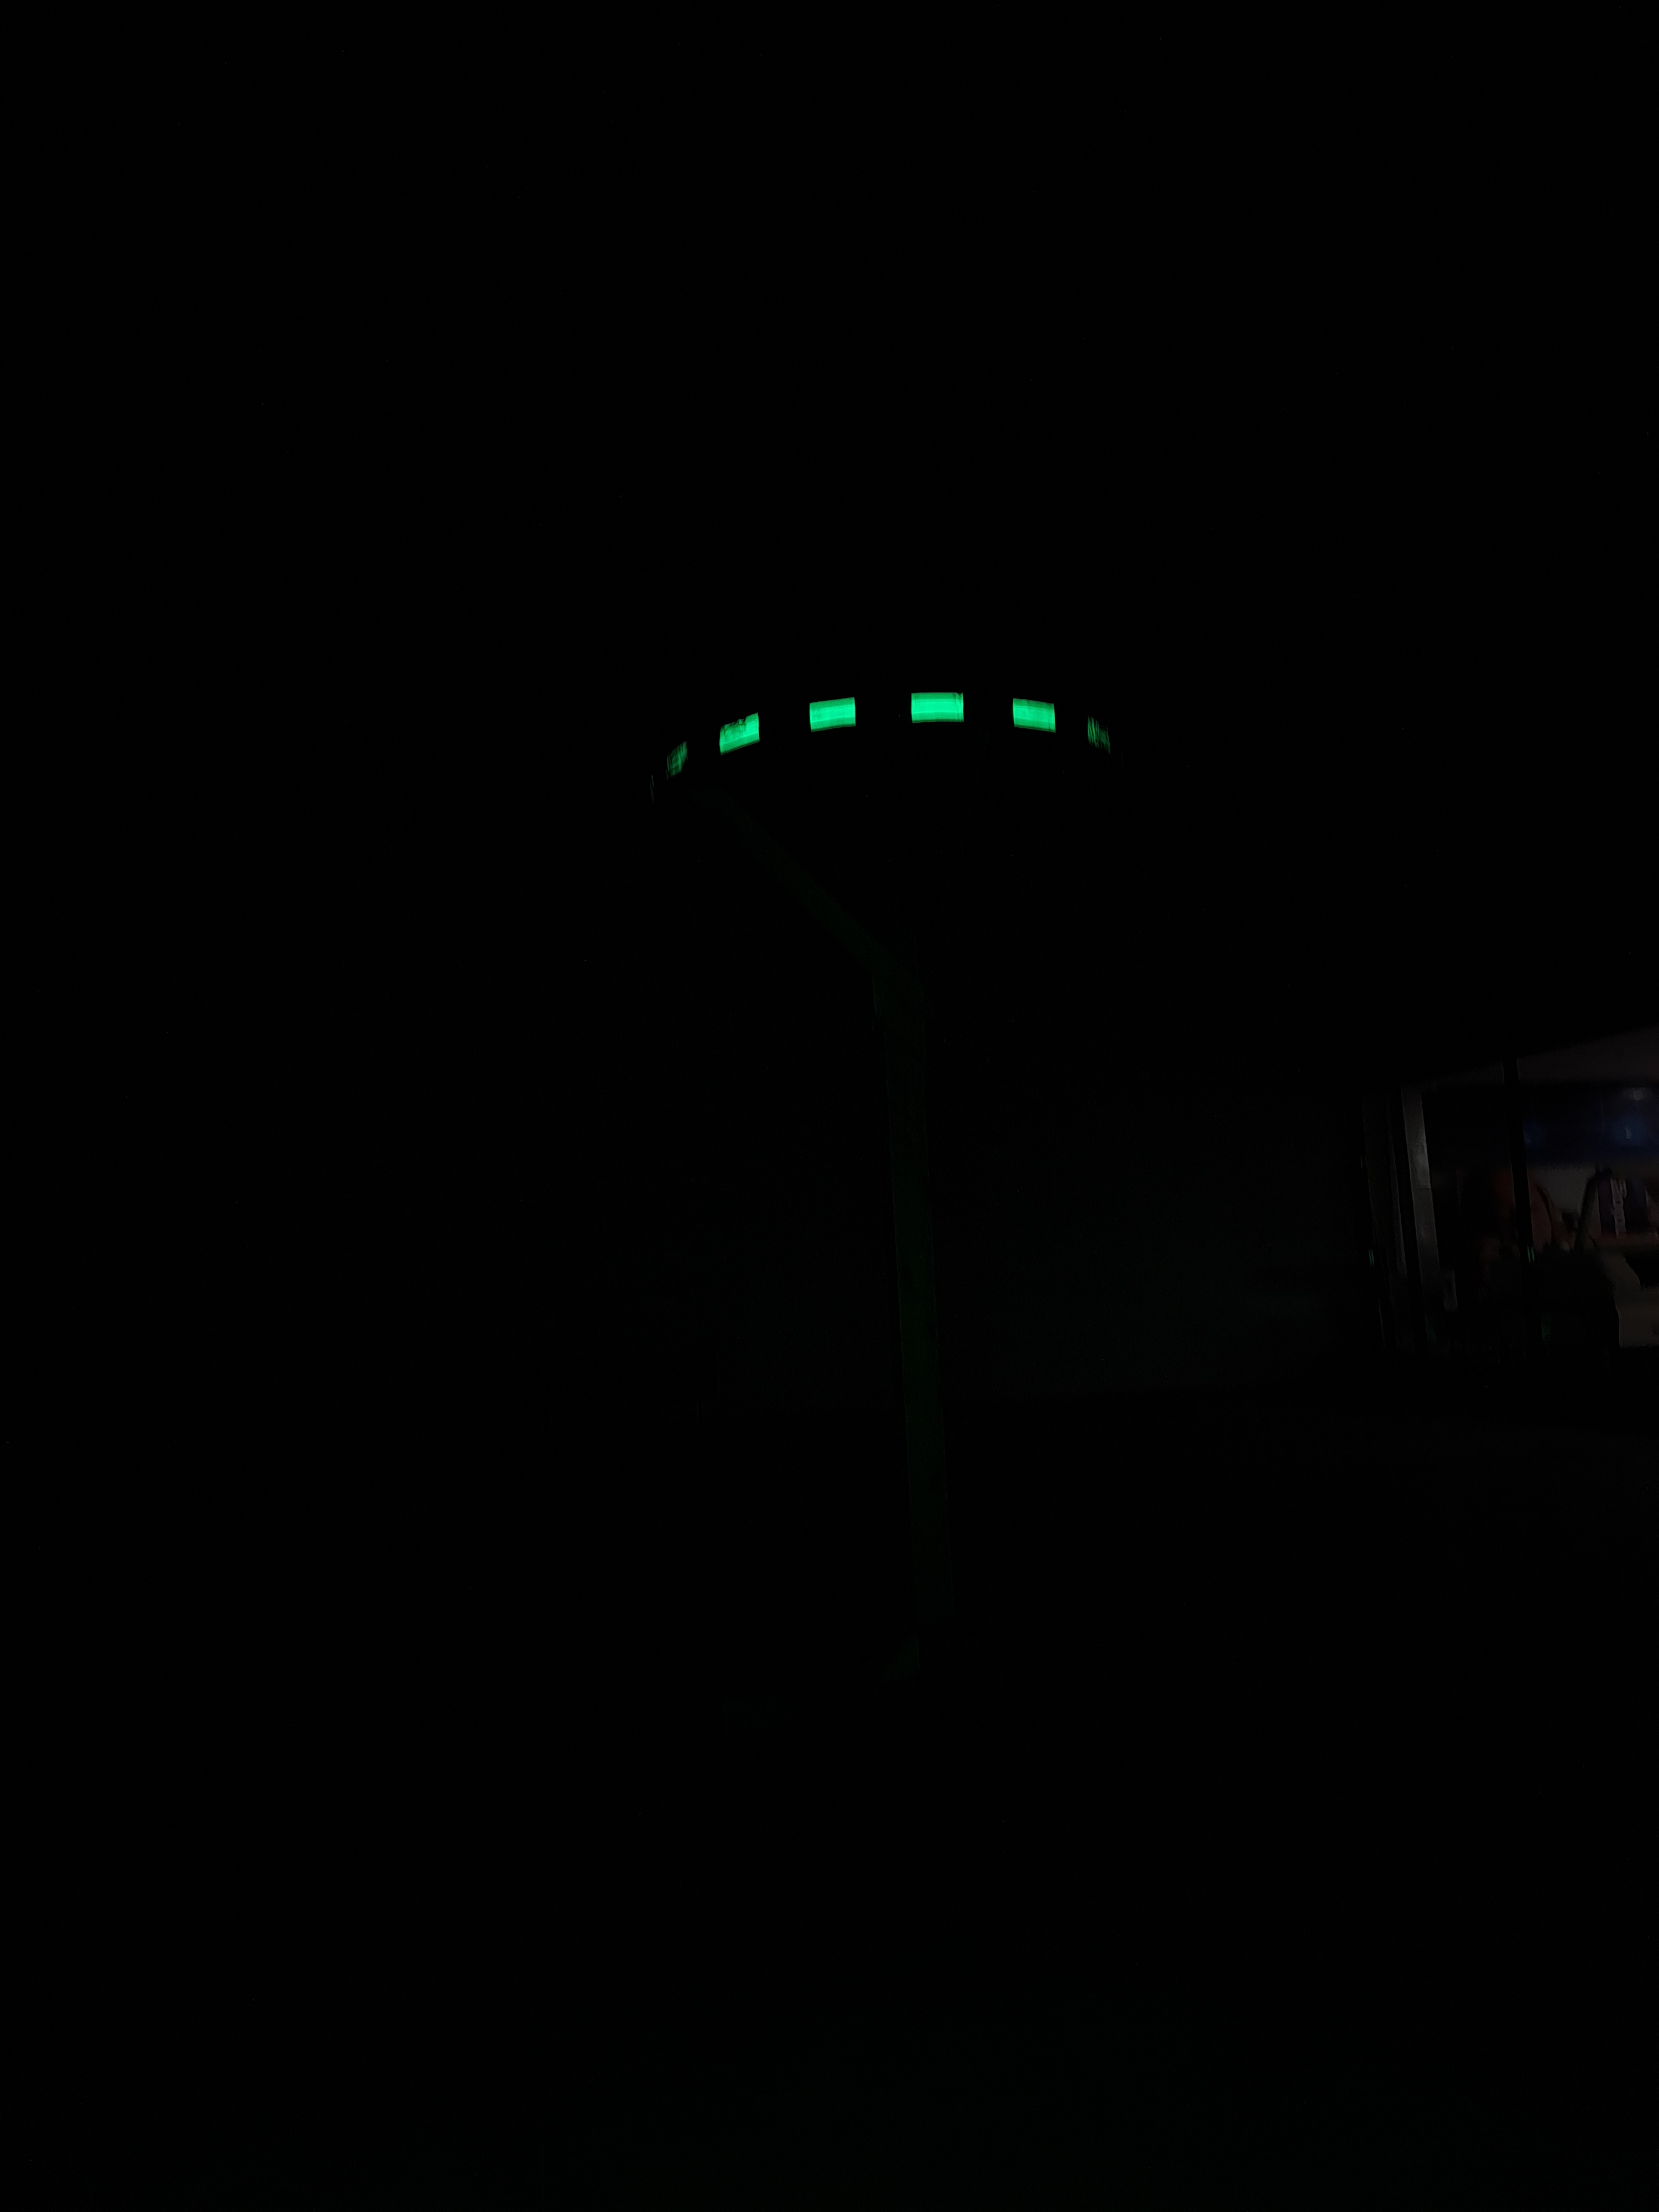hoop: (624, 685, 1138, 813)
